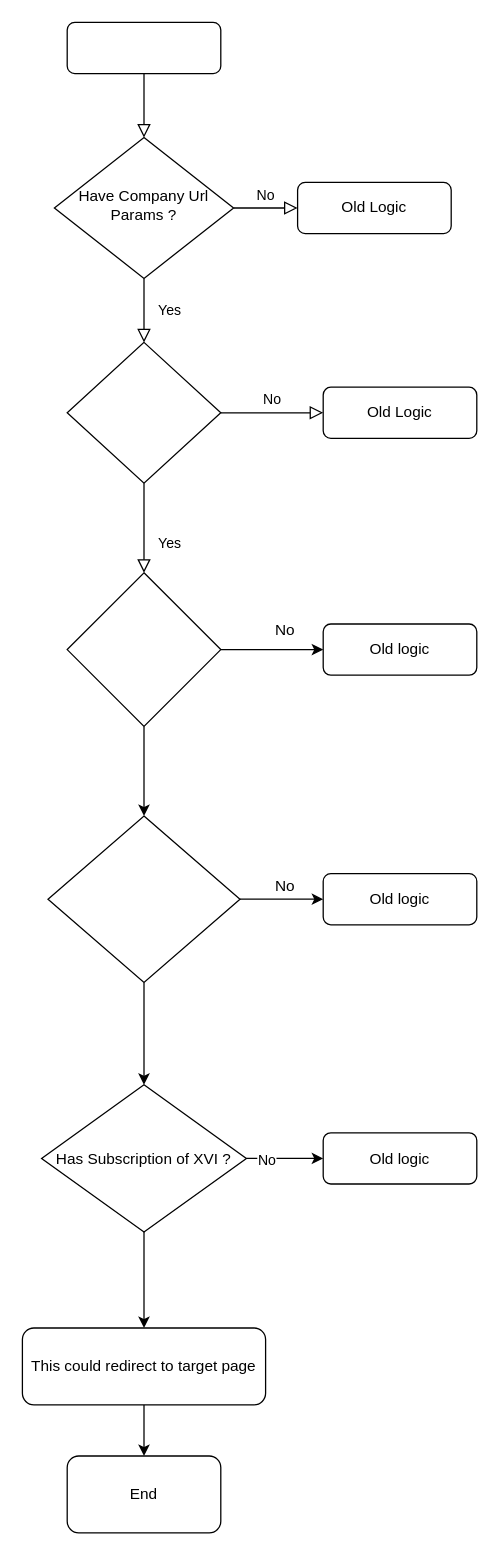
The diagram is 499 pixels wide and 1555 high, and some of its shapes have lost their labels. Here are the shapes that lost their labels. From the top down, the centre of each, then its label:
point 143,47: Start
point 143,412: Find Match Company in My Companies ?
point 143,649: Route Page Path start with product ?
point 143,898: Page Path is XVI ?
